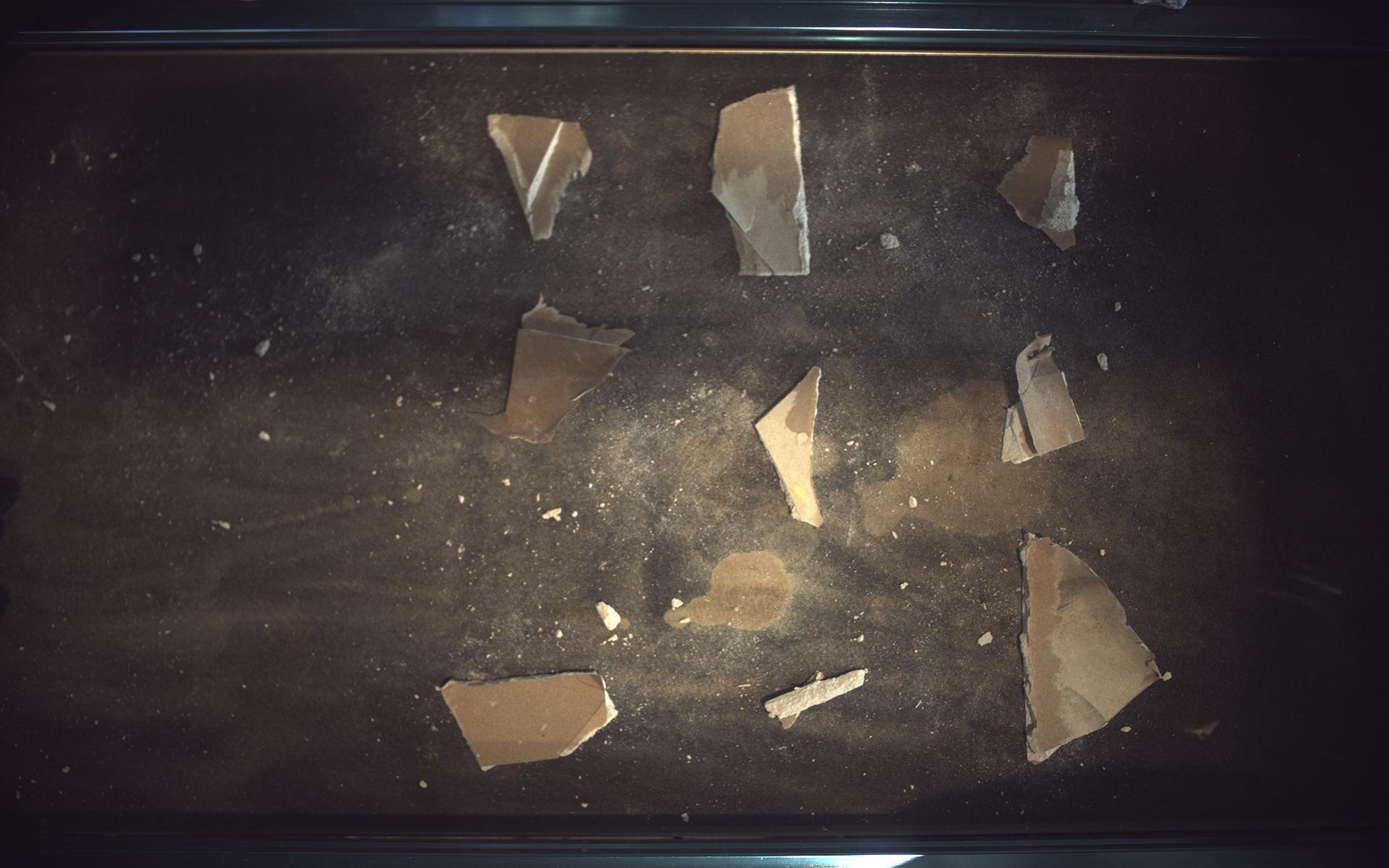gypsum_board: (1022, 533, 1165, 765), (475, 297, 635, 443), (713, 85, 811, 276), (441, 673, 619, 772), (488, 114, 592, 239), (757, 366, 824, 528), (1004, 334, 1087, 464), (1000, 135, 1082, 249), (766, 671, 869, 730)
